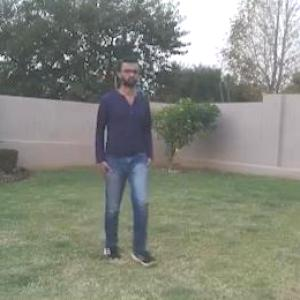follow: (100, 59, 154, 242)
